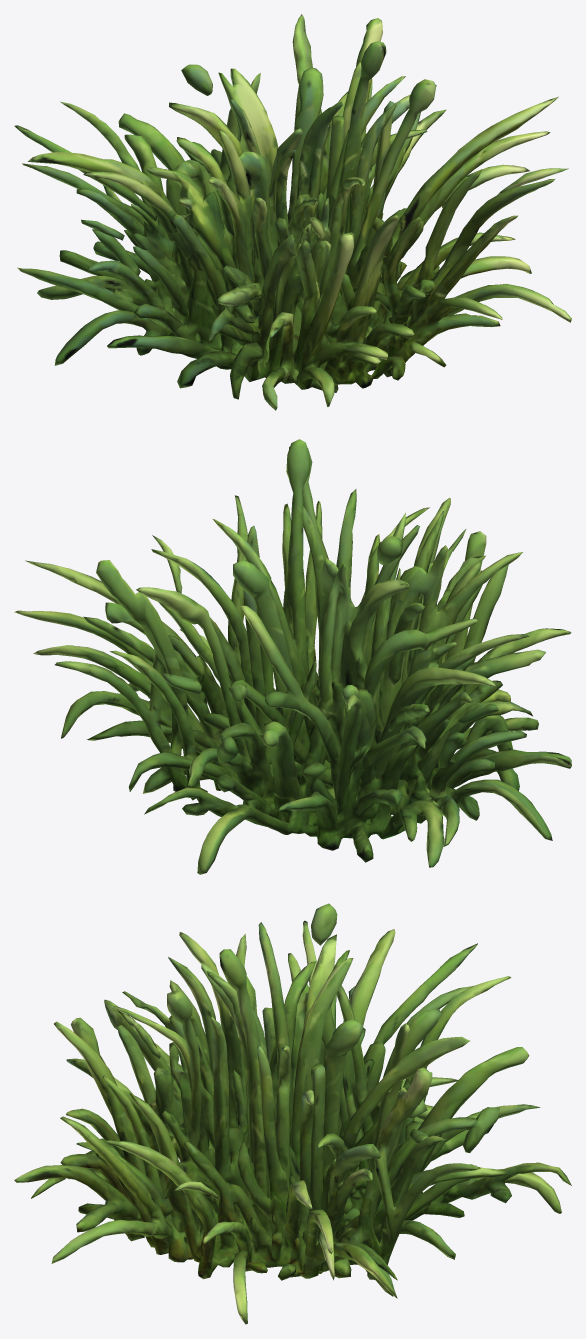
File: AI_StylizedGrass.fbx
3 renders of one model, top to bottom at view 1: azimuth 30°, elevation 25°; view 2: azimuth 150°, elevation 25°; view 3: azimuth 270°, elevation 25°, orthographic. The views are drawn at different scales.
Visible parts, largest first — view 1: Mesh1; view 2: Mesh1; view 3: Mesh1.
Boxes of the visible parts, x1,y1,x2,y2 form: Mesh1: (14,14,571,410); Mesh1: (14,439,571,874); Mesh1: (14,903,571,1324).
Bounding box in the file's own units: 198 × 112 × 181.
1 material, 1 textured.
